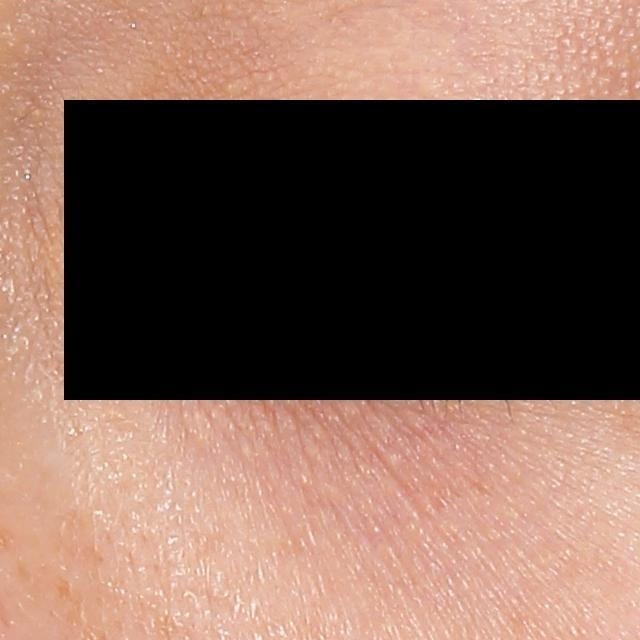melasma: (54, 575, 73, 602)
